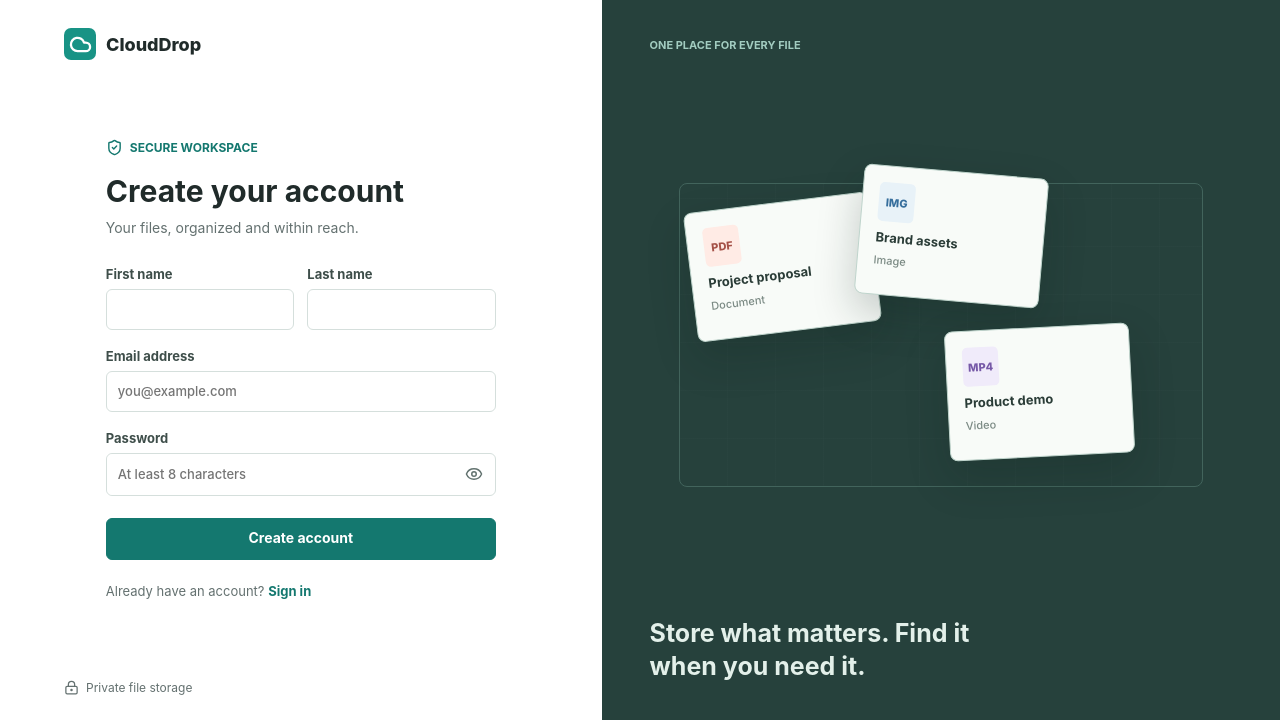
sign-in and registration errors › associates validation errors with their fields and focuses the first invalid registration field
Type "ada@example.com" into the field labelled "Email address" at (301, 391), box [106, 371, 496, 412]
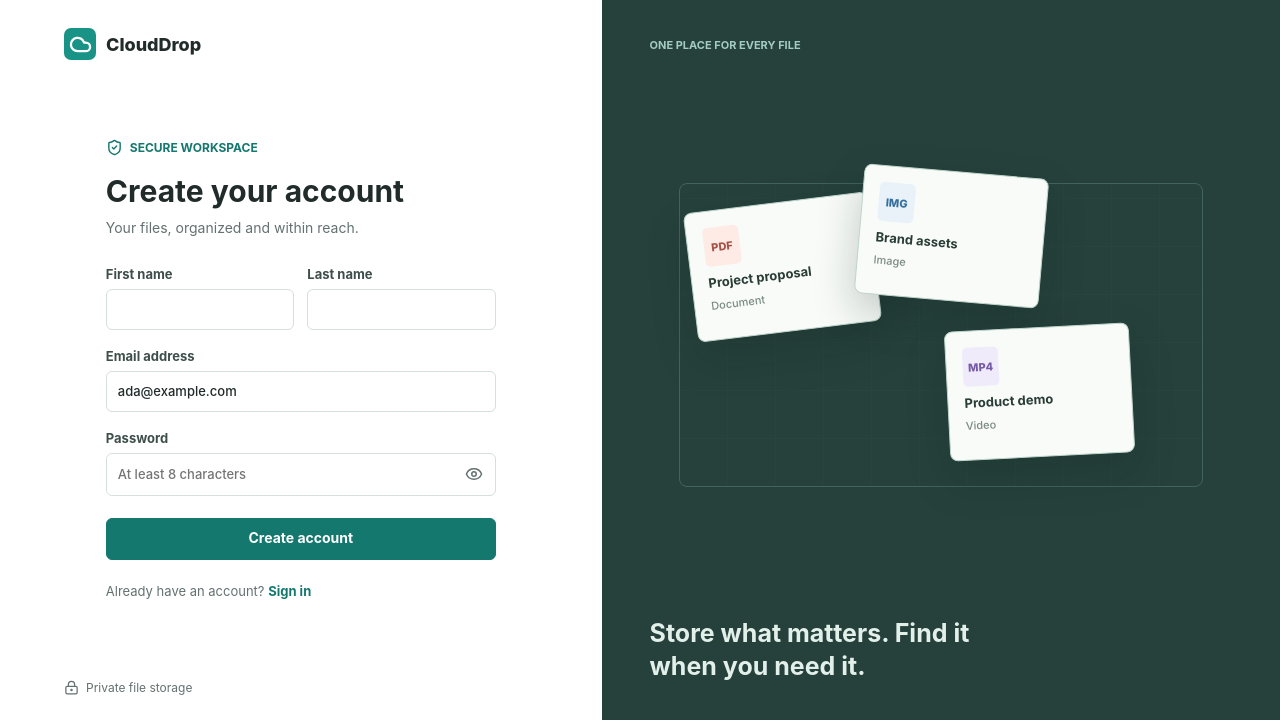
Type "securepass123" into the password field labelled "Password" at (282, 474), box [107, 454, 457, 495]
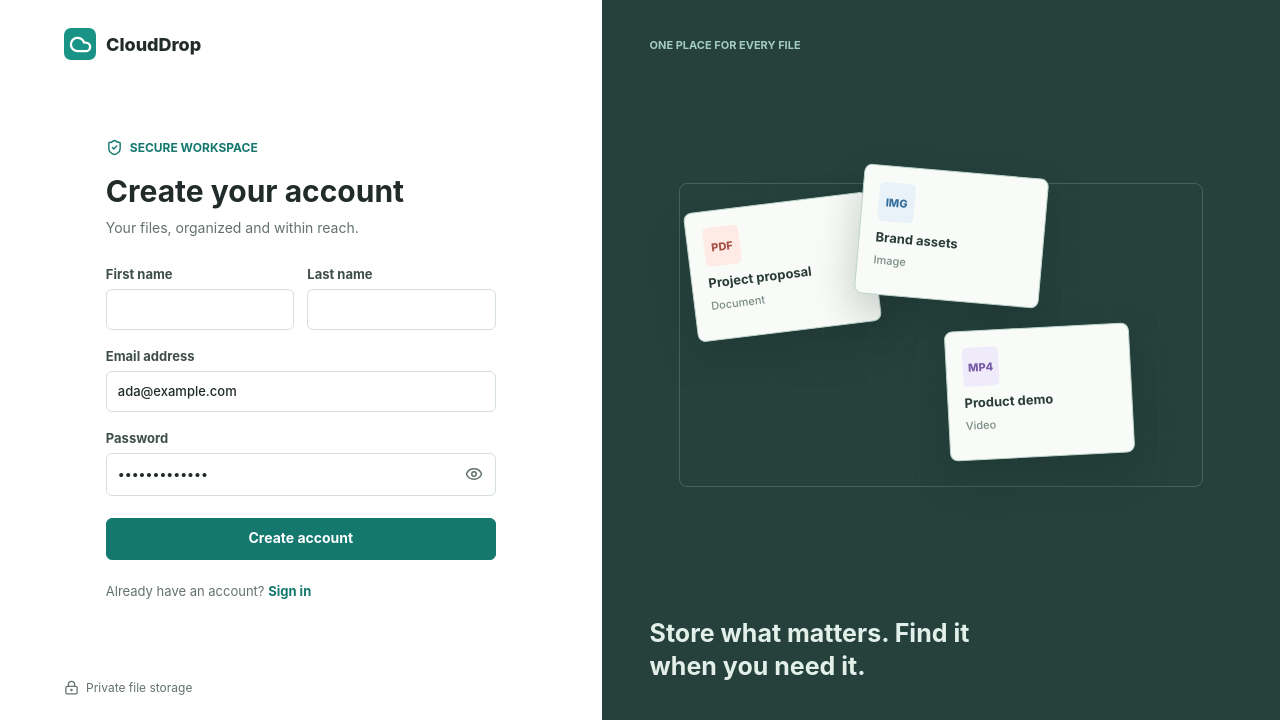
Click the button "Create account" at (301, 539), box [106, 518, 496, 560]
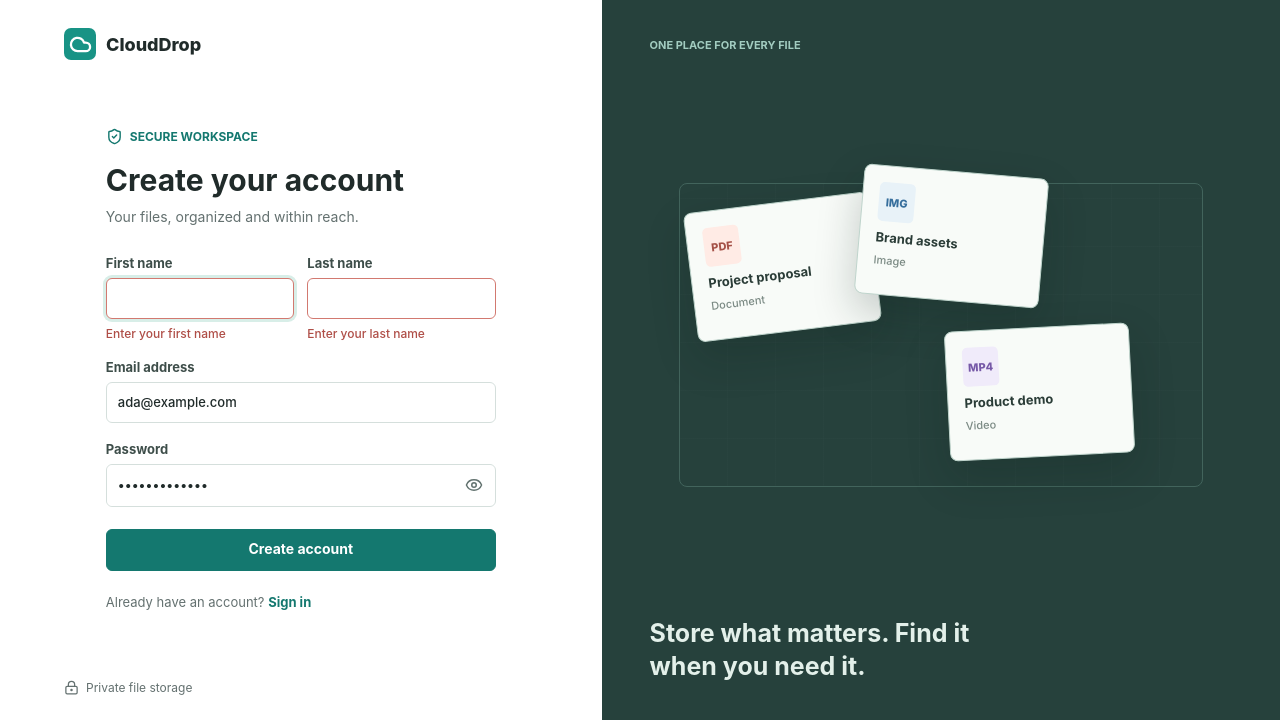
Check: the text "Enter your first name" is shown, box [106, 326, 226, 341]
